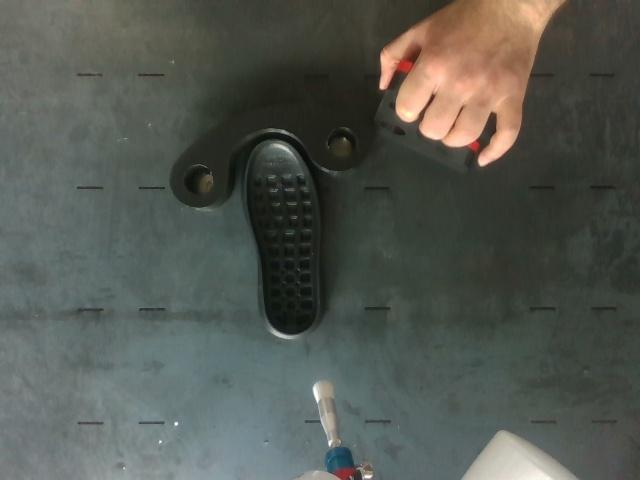shoes: (246, 140, 319, 336)
